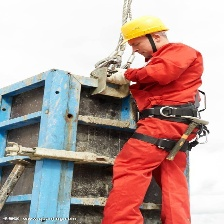helmet: (114, 16, 171, 48)
person: (100, 15, 211, 223)
